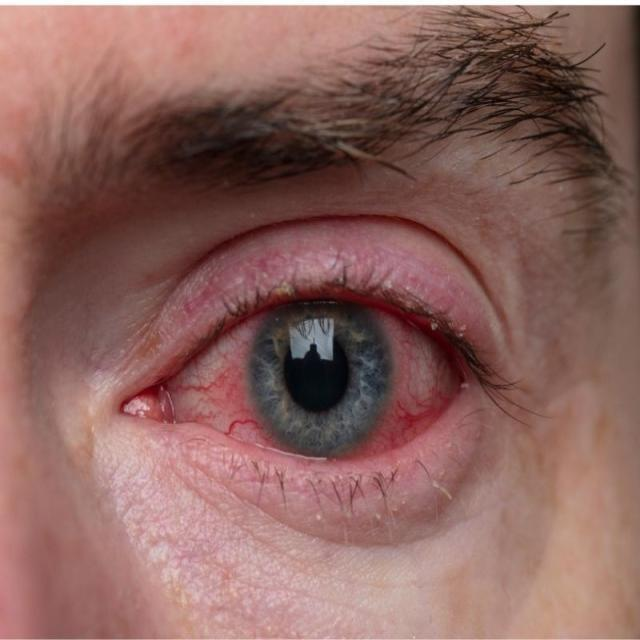Conjunctivitis: (132, 312, 466, 445)
